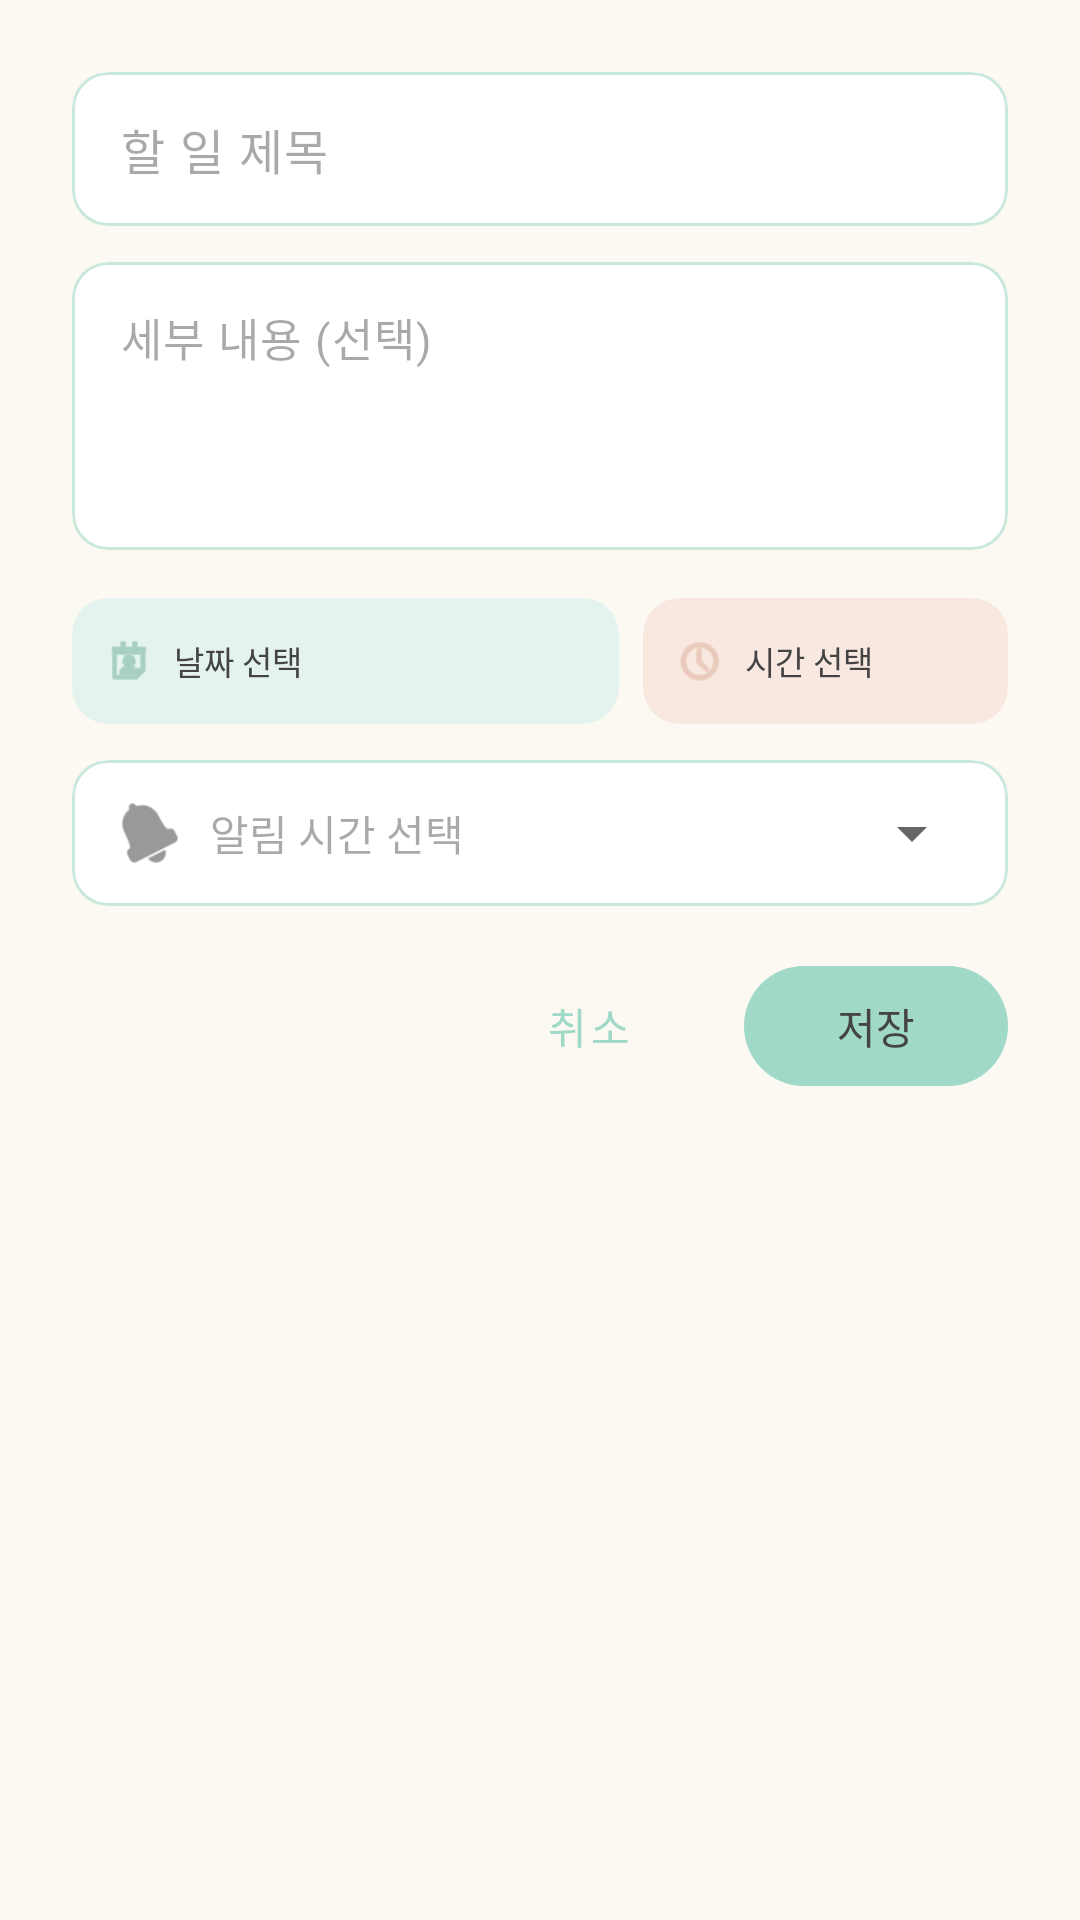

Locate icon controls on the screen. Image size 1080px x 1920px, boxes as (x1, y1, x2, y2).
calendar: (112, 641, 146, 680)
popup reminder: (122, 803, 178, 863)
recent history: (681, 642, 719, 680)
